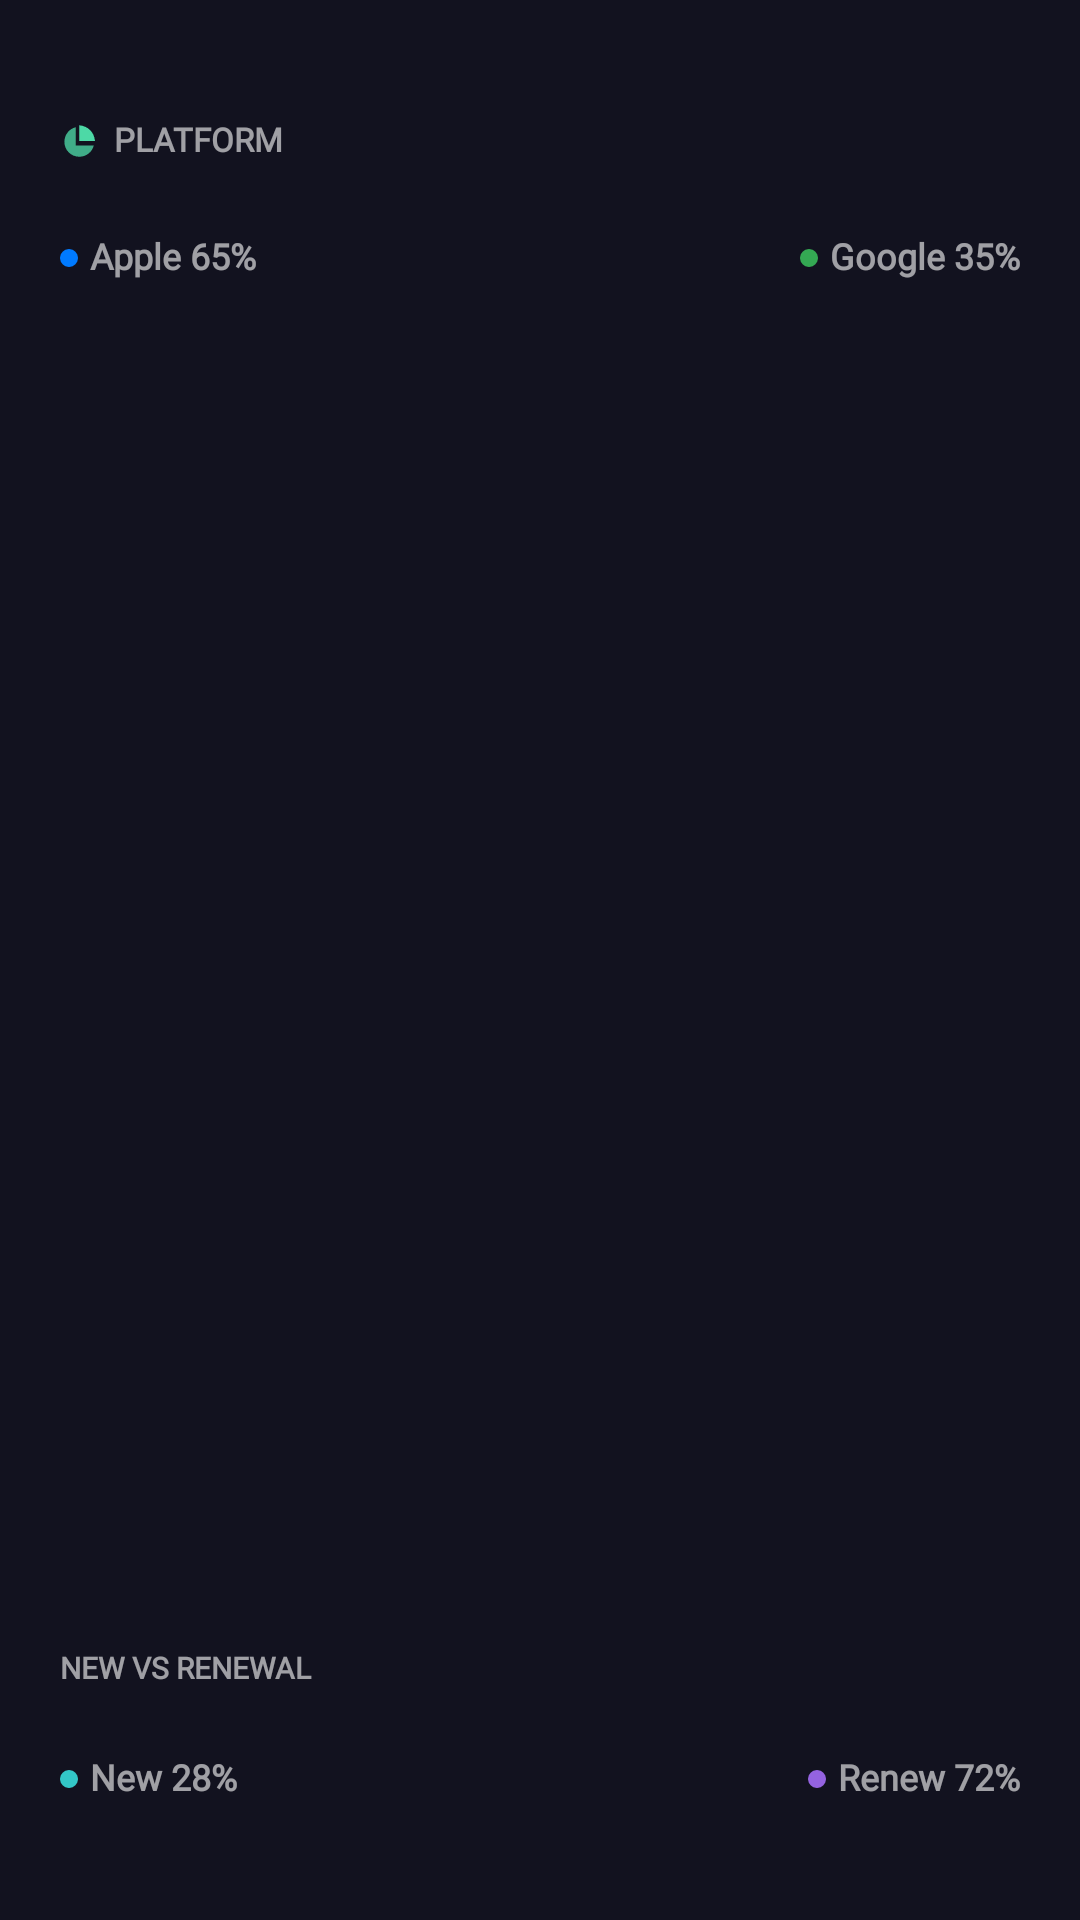

Point at icon controls on the screen. Image size 1080w x 1920h, points as point (x, y).
widget chart pie: point (79, 141)
